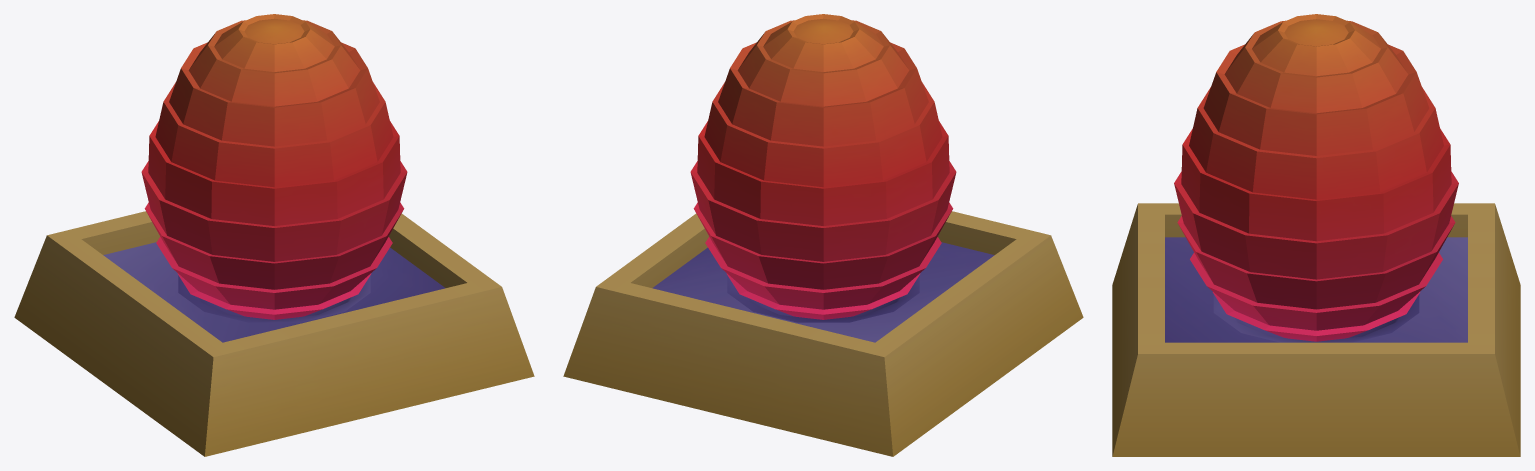
The model's file is OBJ_DragonEgg.fbx.
The picture shows the model from 3 angles, left to right: view 1: azimuth 30°, elevation 25°; view 2: azimuth 150°, elevation 25°; view 3: azimuth 270°, elevation 25°; orthographic projection. The views are drawn at different scales.
Visible parts, largest first — view 1: OBJ_DragonEgg; view 2: OBJ_DragonEgg; view 3: OBJ_DragonEgg.
Part boxes in pixels (x1=…): OBJ_DragonEgg: x1=14, y1=14, x2=534, y2=456; OBJ_DragonEgg: x1=563, y1=14, x2=1083, y2=456; OBJ_DragonEgg: x1=1112, y1=14, x2=1520, y2=456.
Bounding box in the file's own units: 54.91 × 50.88 × 54.91.
